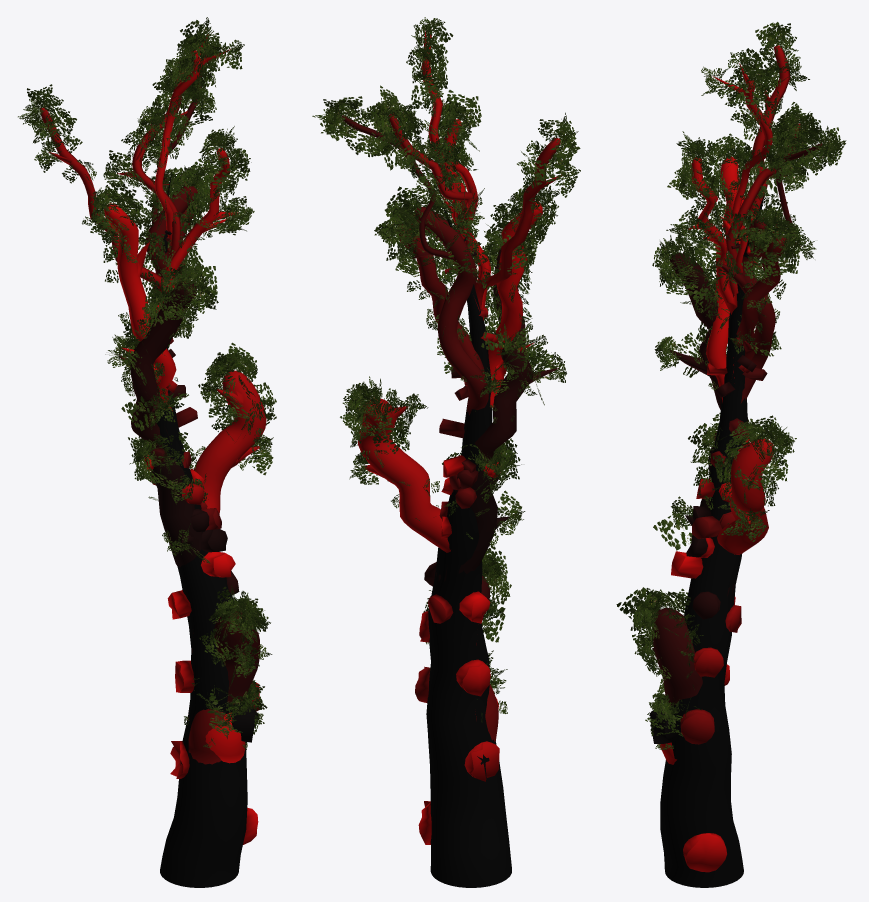
The model's file is Tree_17.fbx.
The picture shows the model from 3 angles, left to right: view 1: azimuth 30°, elevation 25°; view 2: azimuth 150°, elevation 25°; view 3: azimuth 270°, elevation 25°; orthographic projection. The views are drawn at different scales.
Parts seen in each view (by area): view 1: Tree_27; view 2: Tree_27; view 3: Tree_27.
Boxes of the visible parts, box(x1,y1,x2,y2) form: Tree_27: box(18, 17, 276, 887); Tree_27: box(312, 17, 580, 887); Tree_27: box(616, 22, 846, 887).
Bounding box in the file's own units: 1046 × 3355 × 878.
